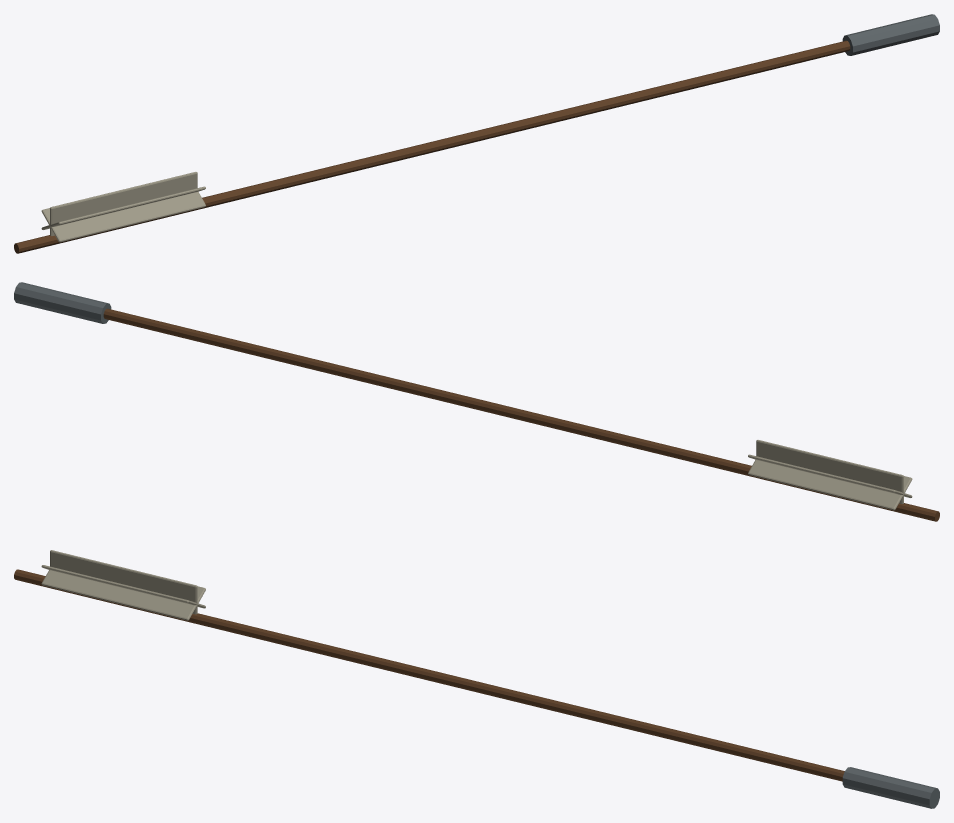
The model's file is Arrow.glb.
3 renders of one model, top to bottom at view 1: azimuth 30°, elevation 25°; view 2: azimuth 150°, elevation 25°; view 3: azimuth 330°, elevation 25°, orthographic.
Visible parts, largest first — view 1: Arrow; view 2: Arrow; view 3: Arrow.
Boxes of the visible parts, x1=… form: Arrow: x1=14, y1=14, x2=939, y2=253; Arrow: x1=14, y1=282, x2=939, y2=521; Arrow: x1=14, y1=550, x2=939, y2=808.
Bounding box in the file's own units: 0.685 × 0.0305 × 0.0236.
